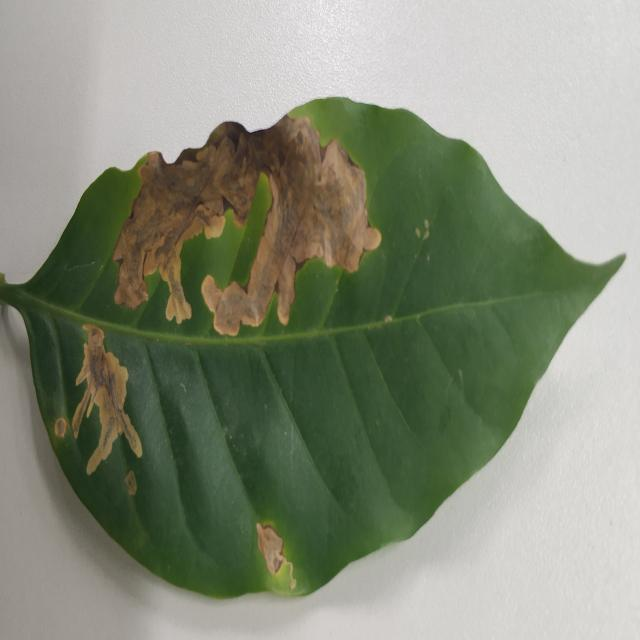Plaga-Minador: (0, 97, 627, 602)
